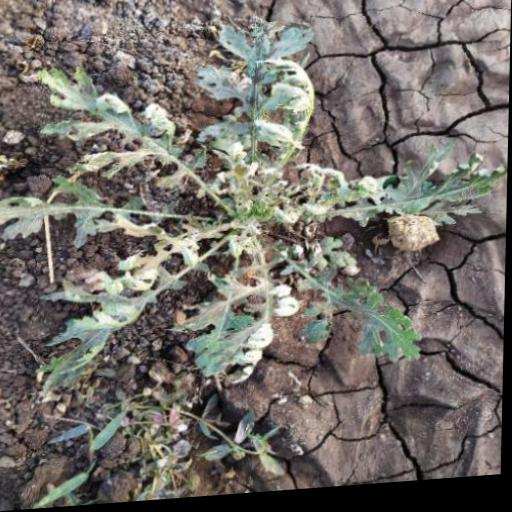weed: (11, 43, 483, 421)
